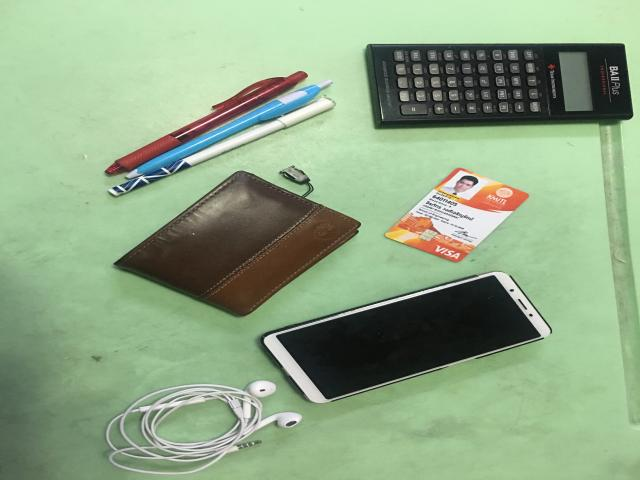Mobile phone: (262, 272, 552, 403)
Pen: (105, 72, 336, 198)
Wallet: (115, 171, 360, 316)
wire: (105, 381, 302, 474)
